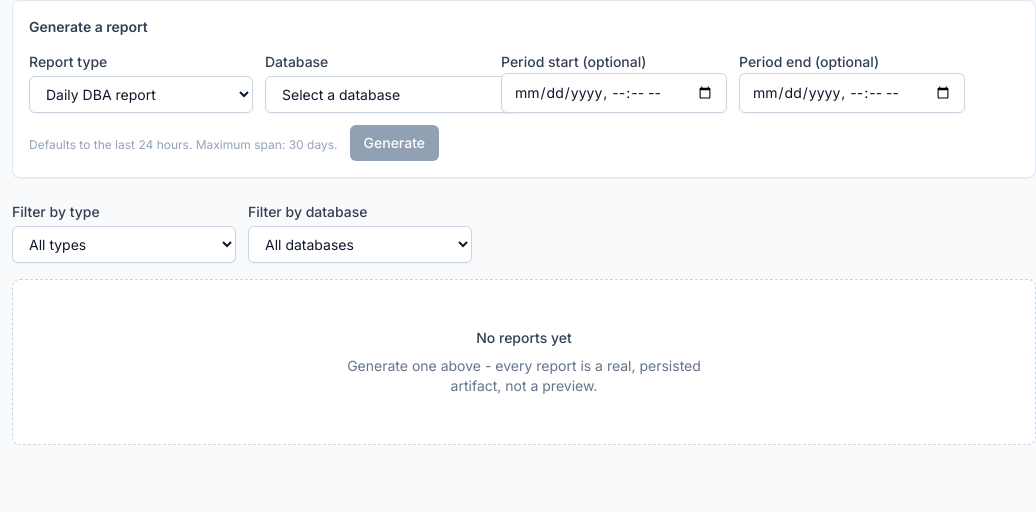
Test: ReportsPage › shows a validation error from the API when generation fails
This screenshot has width=1036, height=512.
Select "PROD01" in the dropdown labelled "Database": x=393, y=94 [265, 76, 521, 113]
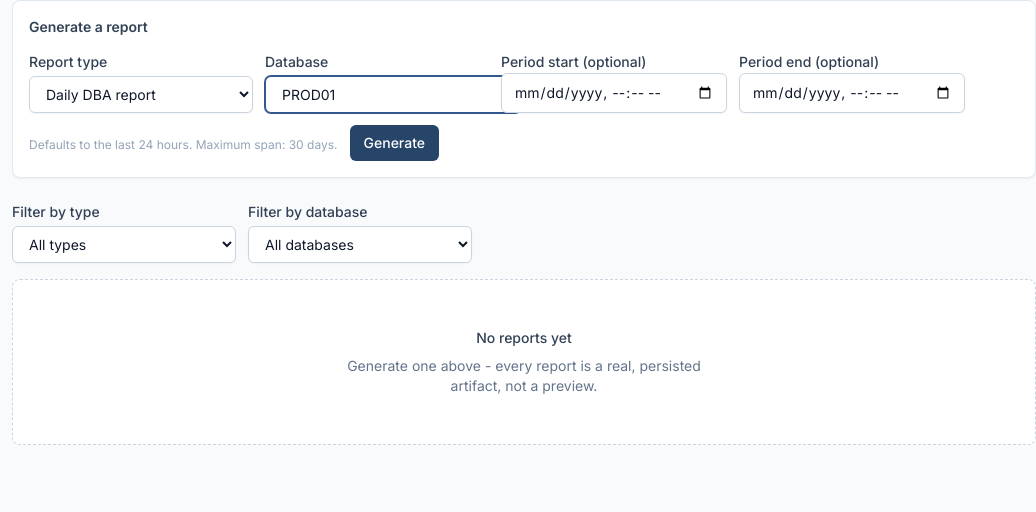
Click the button "Generate": x=394, y=143 [350, 125, 439, 161]
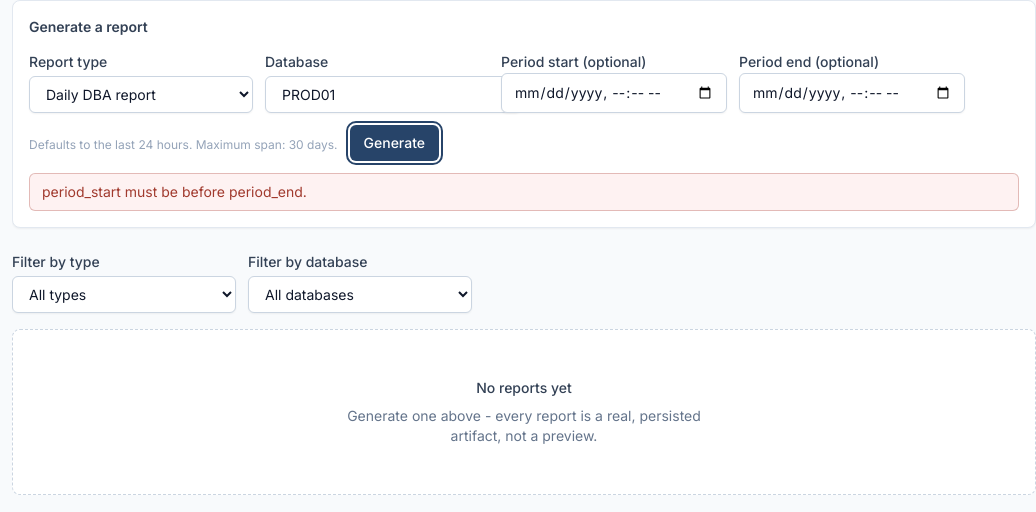
Result: the text "period_start must be before period_end." is shown at [29, 173, 1019, 211]
